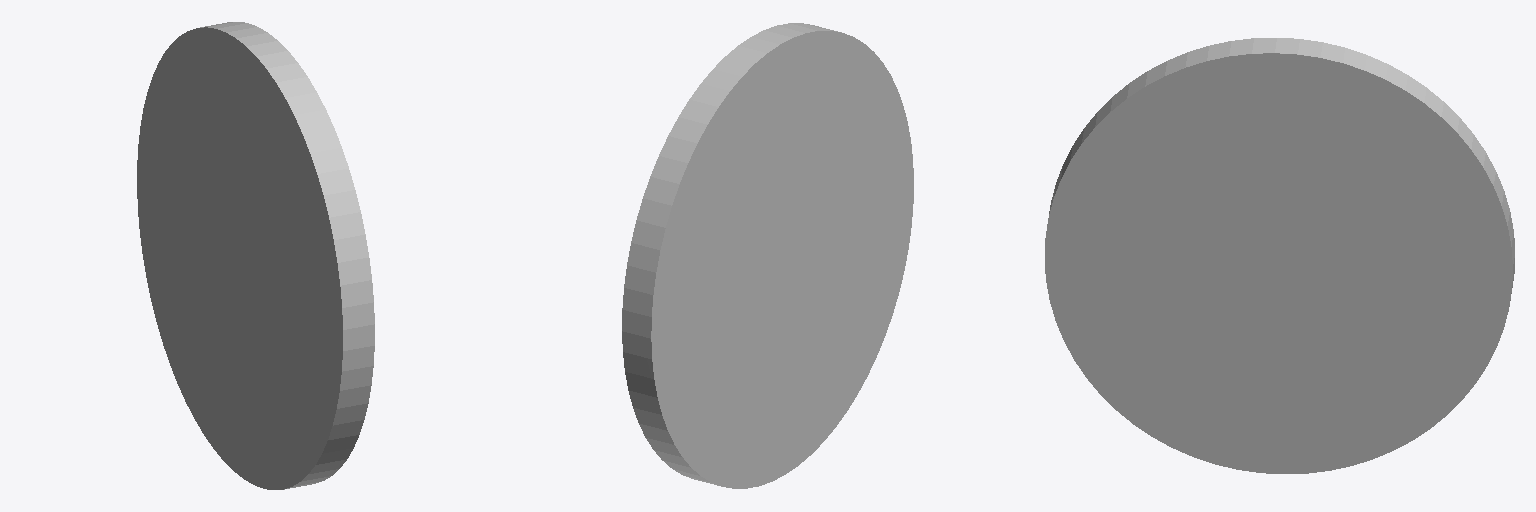
File: coin_max.obj
The picture shows the model from 3 angles: view 1: azimuth 30°, elevation 25°; view 2: azimuth 150°, elevation 25°; view 3: azimuth 270°, elevation 25°; orthographic projection.
Visible parts, largest first — view 1: Cylinder; view 2: Cylinder; view 3: Cylinder.
Boxes of the visible parts, box(x1,y1,x2,y2) form: Cylinder: box(137, 22, 374, 489); Cylinder: box(622, 23, 913, 488); Cylinder: box(1045, 38, 1514, 473).
Size of the model in its own units: 5.76 by 38.86 by 38.91.